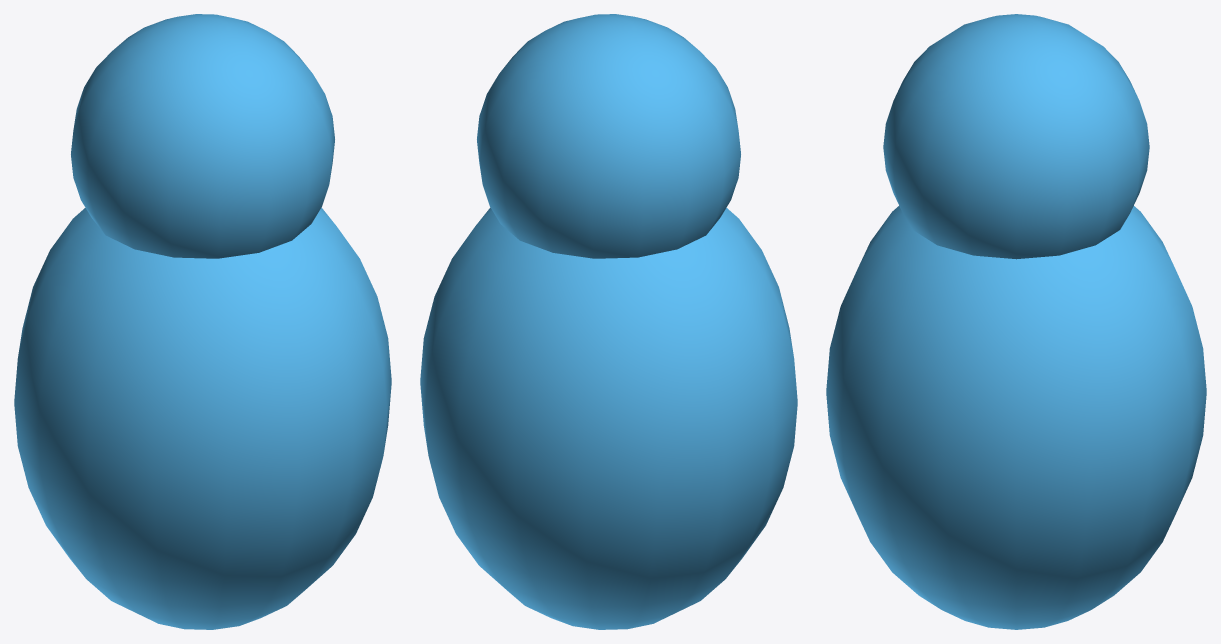
The model's file is person_icon.glb.
The picture shows the model from 3 angles, left to right: view 1: azimuth 30°, elevation 25°; view 2: azimuth 150°, elevation 25°; view 3: azimuth 270°, elevation 25°; orthographic projection.
Parts seen in each view (by area): view 1: RoundedPersonIcon; view 2: RoundedPersonIcon; view 3: RoundedPersonIcon.
Part boxes in pixels (x1,y1,x2,y2): RoundedPersonIcon: [14, 14, 391, 629]; RoundedPersonIcon: [420, 14, 797, 629]; RoundedPersonIcon: [826, 14, 1206, 629].
Bounding box in the file's own units: 1 × 1.71 × 1.
